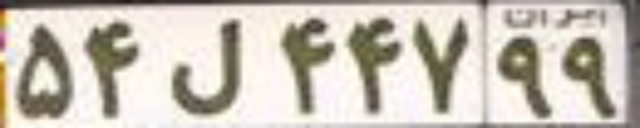4: (277, 17, 338, 114), (83, 21, 143, 119), (341, 17, 398, 114)
5: (12, 24, 73, 118)
7: (406, 15, 476, 115)
9: (555, 33, 615, 118), (492, 33, 549, 120)
lam: (166, 18, 243, 116)
